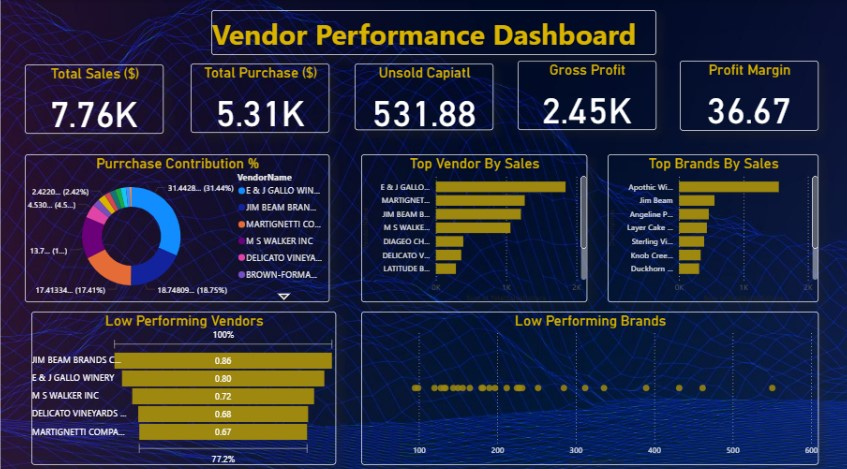

What the dashboard file says about the page in this screenshot:
{"tool":"powerbi","page":{"name":"Page 1","canvas":[1280,720],"ordinal":0},"visuals":[{"type":"cardVisual","title":"Total Sales ($)","fields":{"Data":["Sum(vendor_sales_summary.TotalSalesDollars)"]},"box":[36.9,97.8,209.8,104.9],"z":0},{"type":"cardVisual","title":"Total Purchase ($)","fields":{"Data":["Sum(vendor_sales_summary.TotalPurchaseDollars)"]},"box":[287.7,96.4,209.8,104.9],"z":1},{"type":"cardVisual","title":"Gross Profit","fields":{"Data":["Sum(vendor_sales_summary.GrossProfit)"]},"box":[782.4,92.1,209.8,104.9],"z":2},{"type":"cardVisual","title":"Profit Margin","fields":{"Data":["Avg(vendor_sales_summary.ProfitMargin)"]},"box":[1027.6,92.1,209.8,106.3],"z":3},{"type":"cardVisual","title":"Unsold Capiatl","fields":{"Data":["Sum(vendor_sales_summary.UnsoldCpital)"]},"box":[535.7,96.4,209.8,100.6],"z":4},{"type":"donutChart","title":"Purrchase Contribution % ","fields":{"Category":["PurchaseContribution.VendorName"],"Y":["Sum(PurchaseContribution.PurchaseContribution%)"]},"box":[36.9,233.9,460.6,223.9],"z":5},{"type":"barChart","title":"Top Vendor By Sales","fields":{"Category":["vendor_sales_summary.VendorName"],"Y":["Sum(vendor_sales_summary.TotalSalesDollars)"]},"box":[545.7,233.9,341.6,223.9],"z":6},{"type":"barChart","title":"Top Brands By Sales","fields":{"Category":["vendor_sales_summary.Description"],"Y":["Sum(vendor_sales_summary.TotalSalesDollars)"]},"box":[918.4,233.9,318.9,223.9],"z":7},{"type":"funnel","title":"Low Performing Vendors","fields":{"Category":["LowPerformingVendor.VendorName"],"Y":["Avg(LowPerformingVendor.AvgStockTurnover)"]},"box":[46.8,472,460.6,232.4],"z":8},{"type":"scatterChart","title":"Low Performing Brands","fields":{"Category":["BrandPerformance.Description"],"X":["Sum(BrandPerformance.TotalSales)"]},"box":[545.7,472,691.7,232.4],"z":9},{"type":"textbox","box":[318.9,15.6,673.2,68],"z":10}]}

Visuals, with their boxes in screenshot pixels (x1, y1, x2, y2), scaled from the page's 1280x720 canvas onto the 847x469 screenshot:
"Total Sales ($)" cardVisual: (left=24, top=64, right=163, bottom=132)
"Total Purchase ($)" cardVisual: (left=190, top=63, right=329, bottom=131)
"Gross Profit" cardVisual: (left=518, top=60, right=657, bottom=128)
"Profit Margin" cardVisual: (left=680, top=60, right=819, bottom=129)
"Unsold Capiatl" cardVisual: (left=354, top=63, right=493, bottom=128)
"Purrchase Contribution % " donutChart: (left=24, top=152, right=329, bottom=298)
"Top Vendor By Sales" barChart: (left=361, top=152, right=587, bottom=298)
"Top Brands By Sales" barChart: (left=608, top=152, right=819, bottom=298)
"Low Performing Vendors" funnel: (left=31, top=307, right=336, bottom=459)
"Low Performing Brands" scatterChart: (left=361, top=307, right=819, bottom=459)
textbox: (left=211, top=10, right=656, bottom=54)
